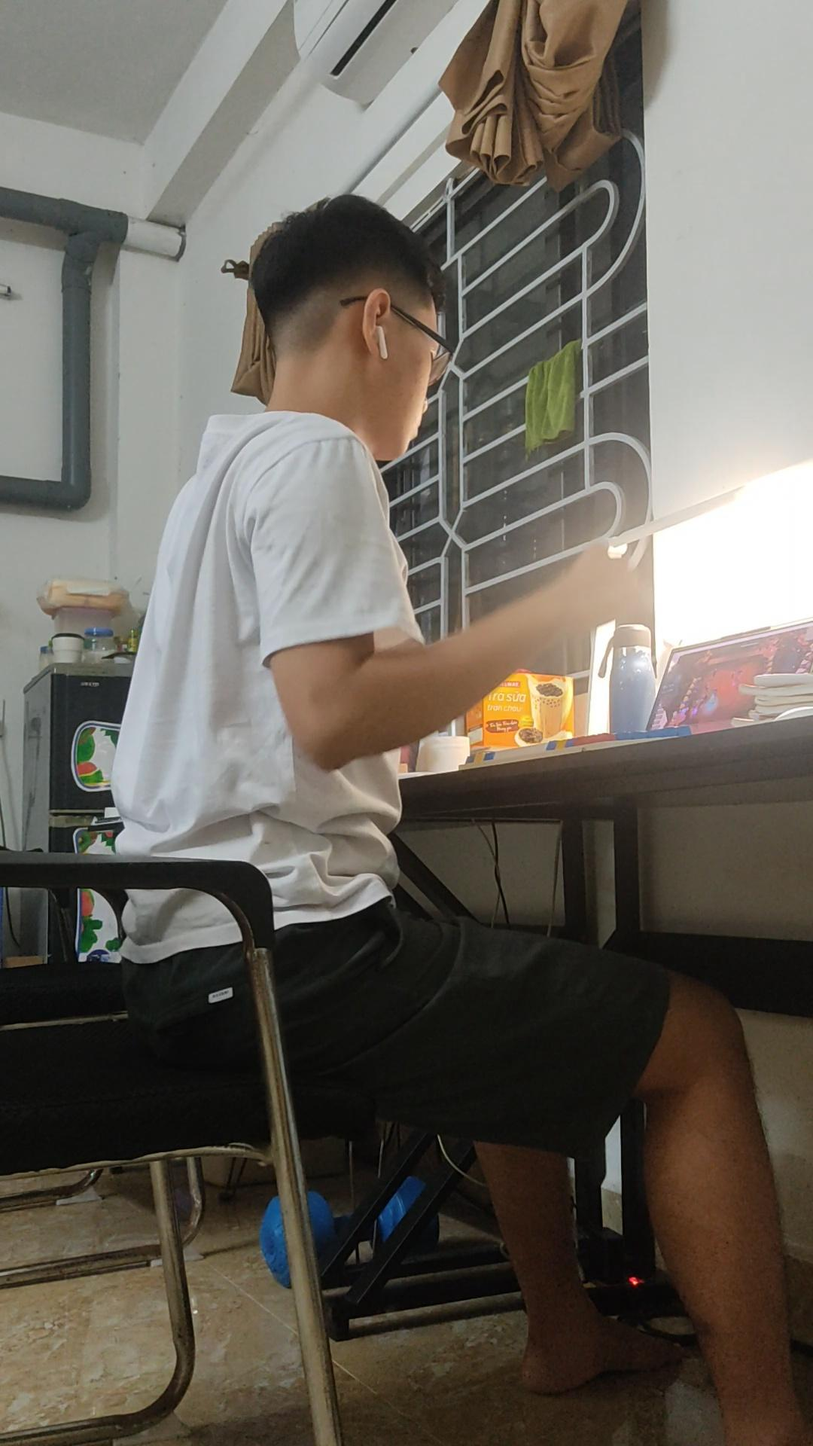GoodPosture: (113, 196, 812, 1445)
